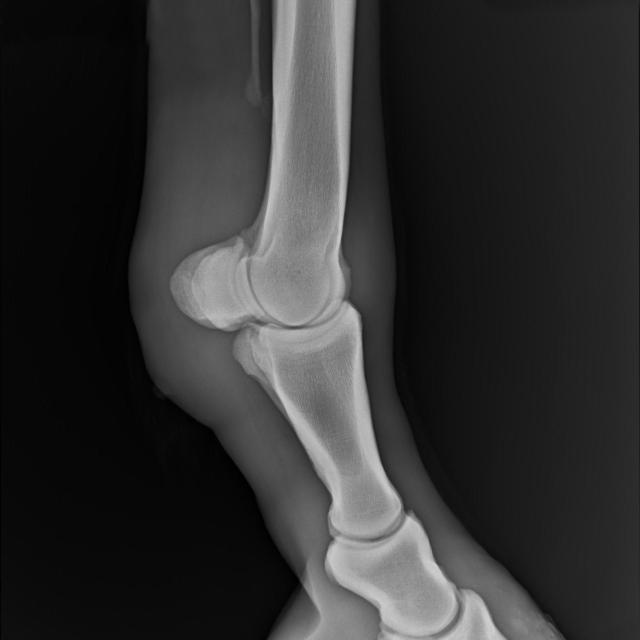joint-ht8A: (161, 193, 391, 415)
